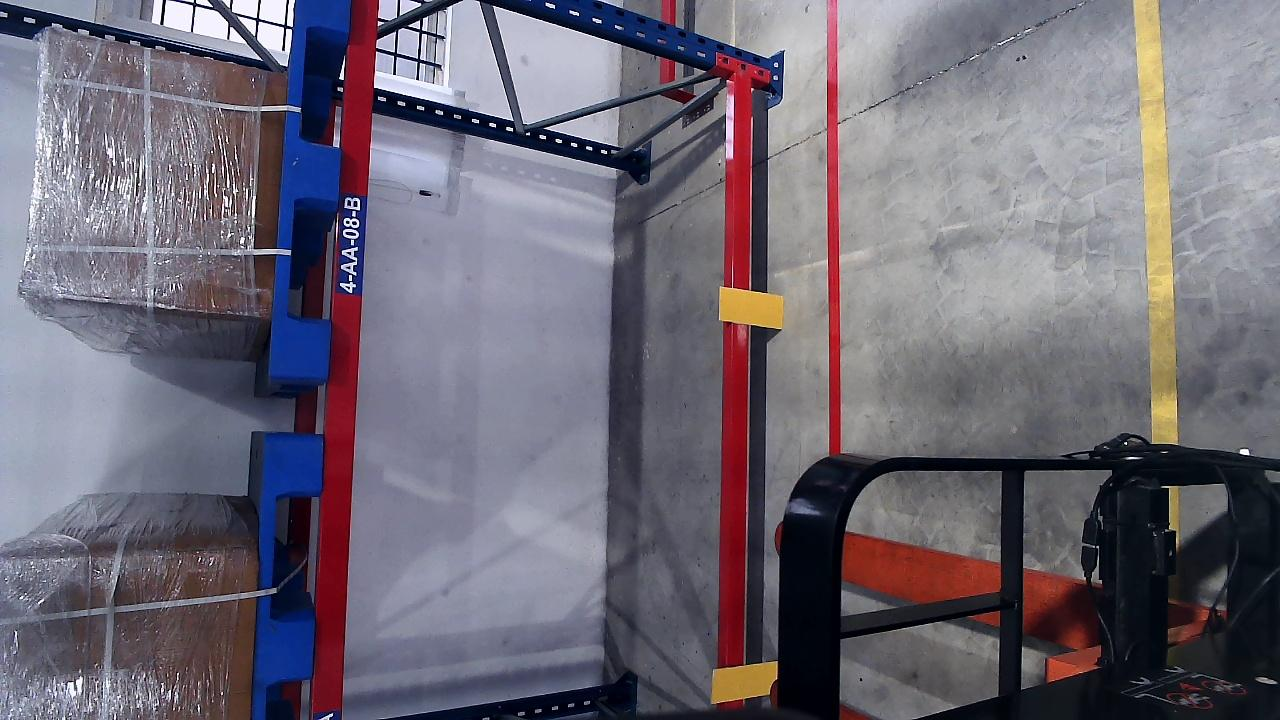h_rack: (311, 64, 376, 689), (718, 84, 757, 709)
orange_strip: (710, 660, 779, 702), (719, 287, 784, 329)
red_line: (822, 16, 844, 421)
small_pallet: (272, 0, 351, 381), (252, 435, 325, 720)
yellow_line: (1134, 0, 1180, 443)
